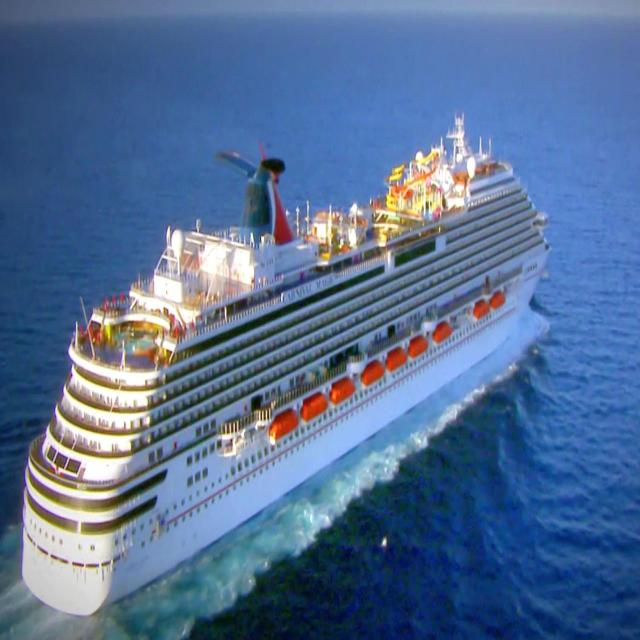passenger ship: (17, 111, 546, 605)
